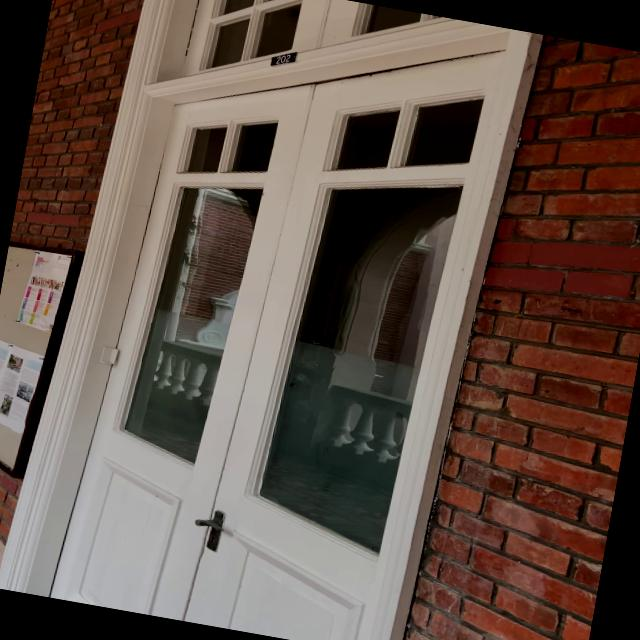room202: (271, 46, 298, 70)
